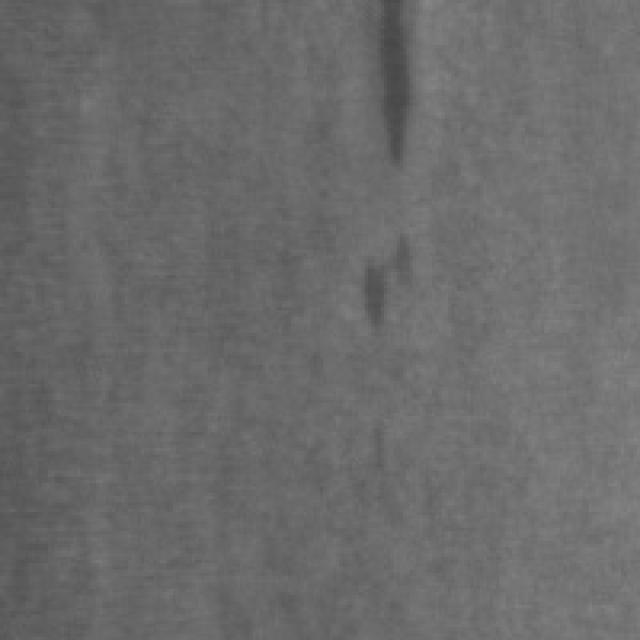inclusion: (375, 0, 439, 166), (358, 221, 432, 339)
